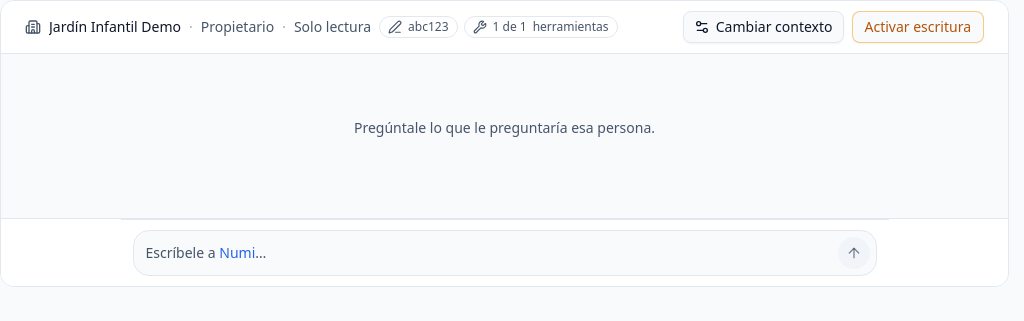
Test: lo que falla antes del primer trozo se enseña tal cual lo dice el backend
Type "hola" into the text box named "Mensaje para Numi".
click(488, 253); type("hola")  # box [142,238,834,268]
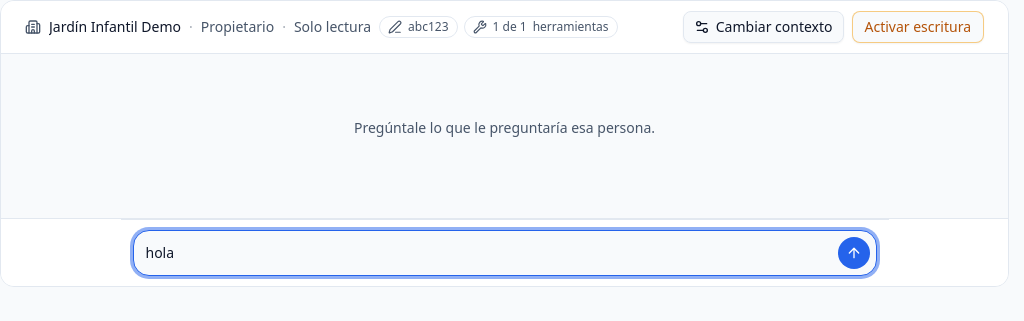
Press Enter
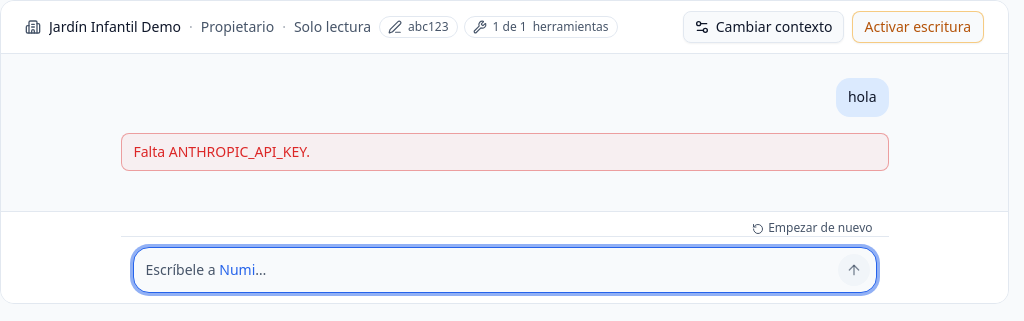
Expected: the text "Falta ANTHROPIC_API_KEY." is shown, [120,133,888,171]
